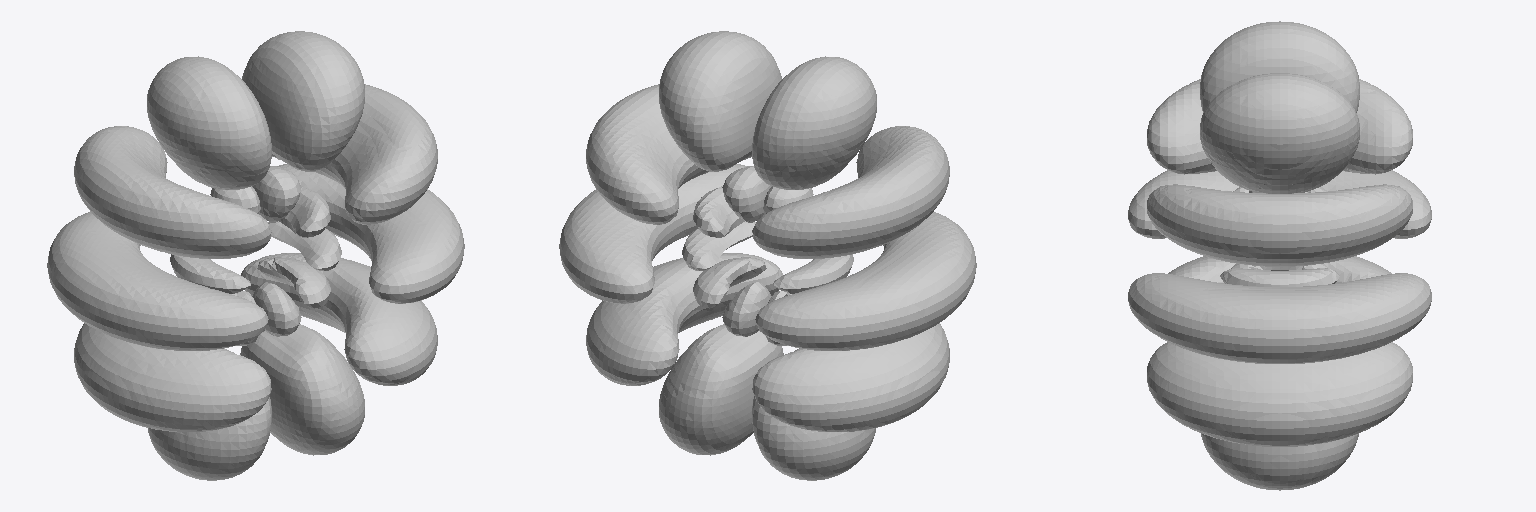
Rendered from orb_n=7_ l=5 _m=1.obj.
The picture shows the model from 3 angles: view 1: azimuth 30°, elevation 25°; view 2: azimuth 150°, elevation 25°; view 3: azimuth 270°, elevation 25°; orthographic projection.
Parts seen in each view (by area): view 1: orb_n=7__l=5__m=1; view 2: orb_n=7__l=5__m=1; view 3: orb_n=7__l=5__m=1.
Boxes of the visible parts, box(x1,y1,x2,y2) form: orb_n=7__l=5__m=1: box(47, 31, 464, 480); orb_n=7__l=5__m=1: box(559, 31, 976, 480); orb_n=7__l=5__m=1: box(1128, 21, 1431, 490).
Size of the model in its own units: 179 by 188 by 128.